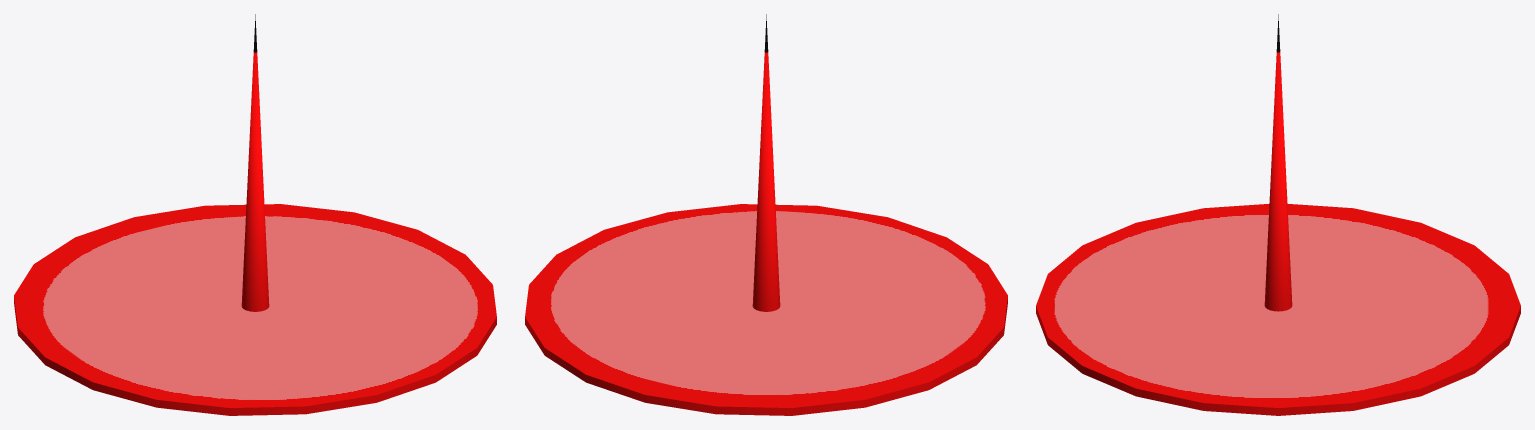
The model's file is hiteff.obj.
3 renders of one model, left to right at view 1: azimuth 30°, elevation 25°; view 2: azimuth 150°, elevation 25°; view 3: azimuth 270°, elevation 25°, orthographic.
Visible parts, largest first — view 1: pCylinder2; view 2: pCylinder2; view 3: pCylinder2.
Boxes of the visible parts, bbox=[...] form: pCylinder2: bbox=[14, 14, 496, 415]; pCylinder2: bbox=[525, 14, 1007, 415]; pCylinder2: bbox=[1036, 14, 1520, 415].
Size of the model in its own units: 5.71 by 3.89 by 5.71.
Materials: 1 (1 with a texture image).
